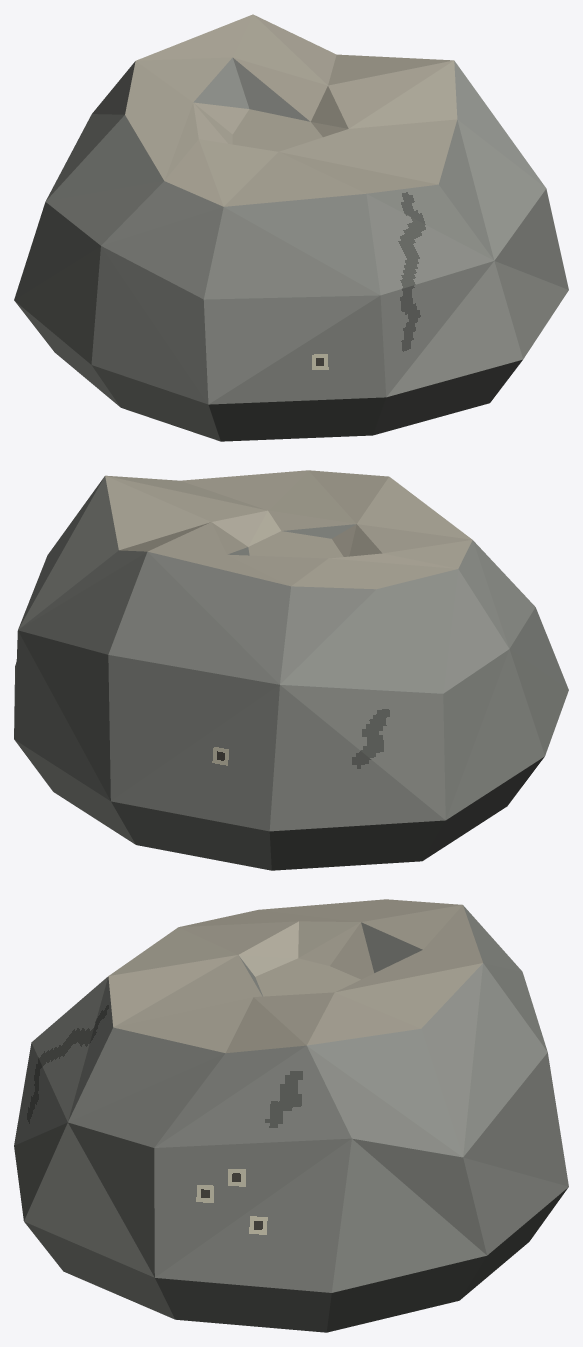
3 renders of one model, top to bottom at view 1: azimuth 30°, elevation 25°; view 2: azimuth 150°, elevation 25°; view 3: azimuth 270°, elevation 25°, orthographic. The views are drawn at different scales.
Visible parts, largest first — view 1: matte_reef_small; view 2: matte_reef_small; view 3: matte_reef_small.
Boxes of the visible parts, x1,y1,x2,y2 form: matte_reef_small: (14,14,568,441); matte_reef_small: (14,470,568,870); matte_reef_small: (14,899,568,1332).
Bounding box in the file's own units: 2.05 × 1.1 × 1.95.
1 material, 1 textured.
